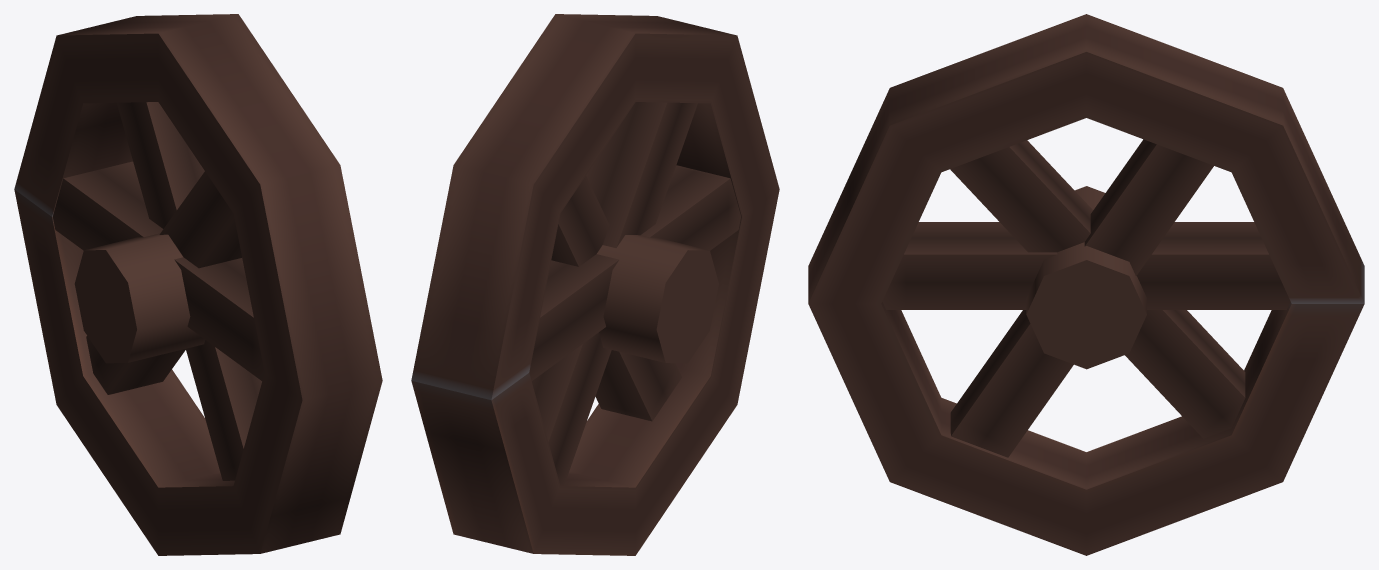
Rendered from wheel.fbx.
3 renders of one model, left to right at view 1: azimuth 30°, elevation 25°; view 2: azimuth 150°, elevation 25°; view 3: azimuth 270°, elevation 25°, orthographic. The views are drawn at different scales.
Parts seen in each view (by area): view 1: wheel; view 2: wheel; view 3: wheel.
Part boxes in pixels (x1=…): wheel: x1=14, y1=14, x2=382, y2=555; wheel: x1=411, y1=14, x2=779, y2=555; wheel: x1=808, y1=14, x2=1364, y2=555.
Bounding box in the file's own units: 52.95 × 168 × 168.
